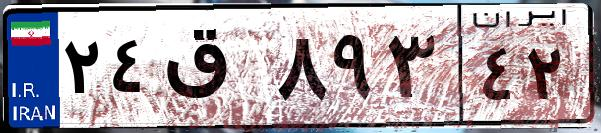2: (57, 26, 110, 100), (525, 38, 570, 115)
3: (385, 28, 445, 110)
4: (475, 38, 525, 113), (110, 28, 158, 98)
8: (270, 28, 330, 110)
9: (330, 28, 385, 110)
ق: (158, 20, 270, 120)
